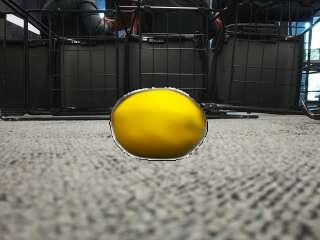lemon: (113, 89, 206, 159)
